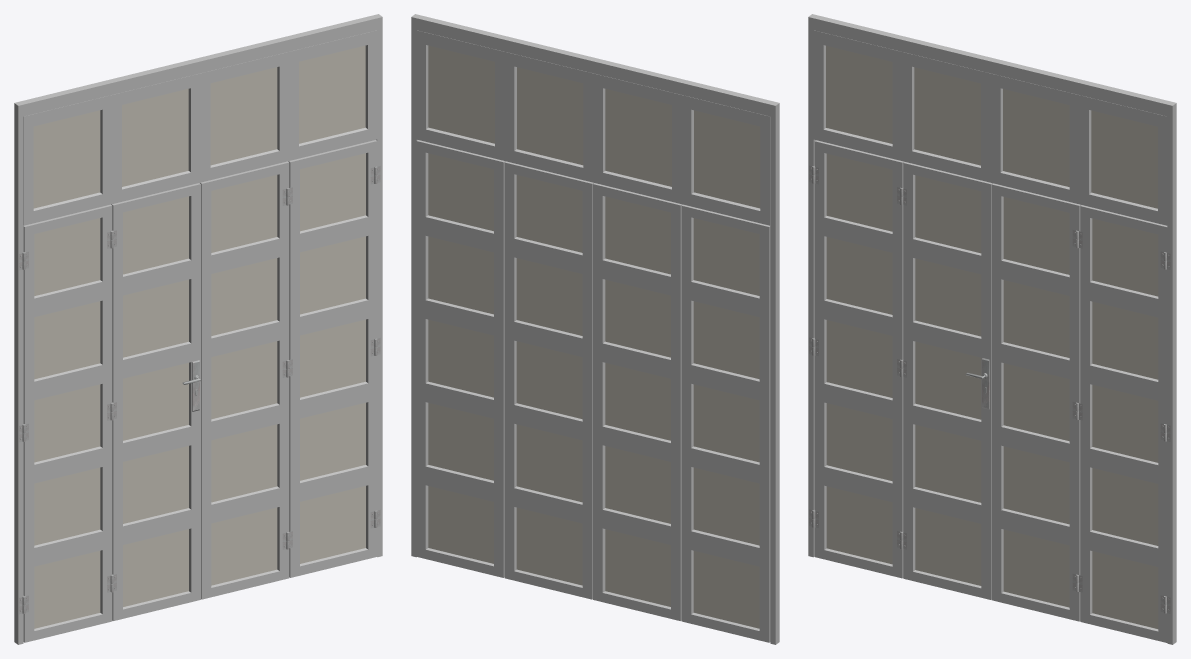
The model's file is SecondFloor_Door.fbx.
3 renders of one model, left to right at view 1: azimuth 30°, elevation 25°; view 2: azimuth 150°, elevation 25°; view 3: azimuth 330°, elevation 25°, orthographic.
Visible parts, largest first — view 1: Door; view 2: Door; view 3: Door.
Part boxes in pixels (left/top/right/bottom): Door: left=14, top=14, right=382, bottom=644; Door: left=411, top=14, right=779, bottom=644; Door: left=808, top=14, right=1176, bottom=644.
Bounding box in the file's own units: 233 × 329 × 9.
